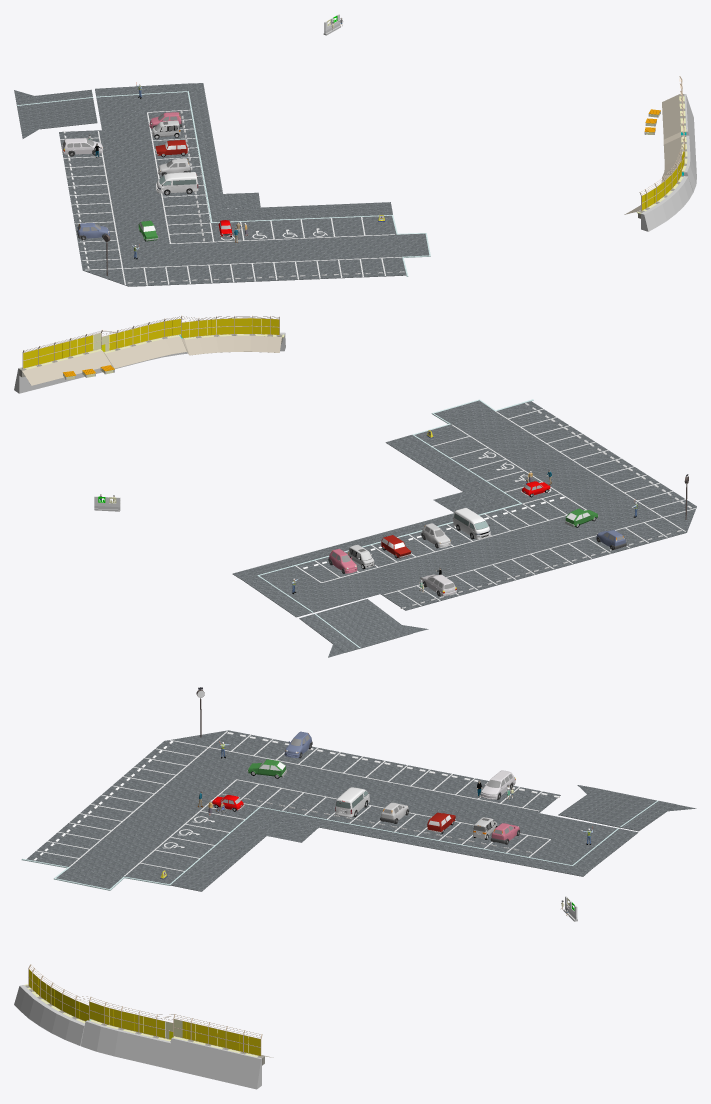
The picture shows the model from 3 angles, top to bottom: view 1: azimuth 30°, elevation 25°; view 2: azimuth 150°, elevation 25°; view 3: azimuth 270°, elevation 25°; orthographic projection. The views are drawn at different scales.
Parts seen in each view (by area): view 1: 凸凹地盤 - 名称未設定; view 2: 凸凹地盤 - 名称未設定; view 3: 凸凹地盤 - 名称未設定.
Part boxes in pixels (<box>): 凸凹地盤 - 名称未設定: <box>14,14,696,286</box>; 凸凹地盤 - 名称未設定: <box>14,315,696,657</box>; 凸凹地盤 - 名称未設定: <box>14,687,696,1089</box>.
Bounding box in the file's own units: 83.07 × 6.86 × 68.63.
372 materials, 20 textured.
